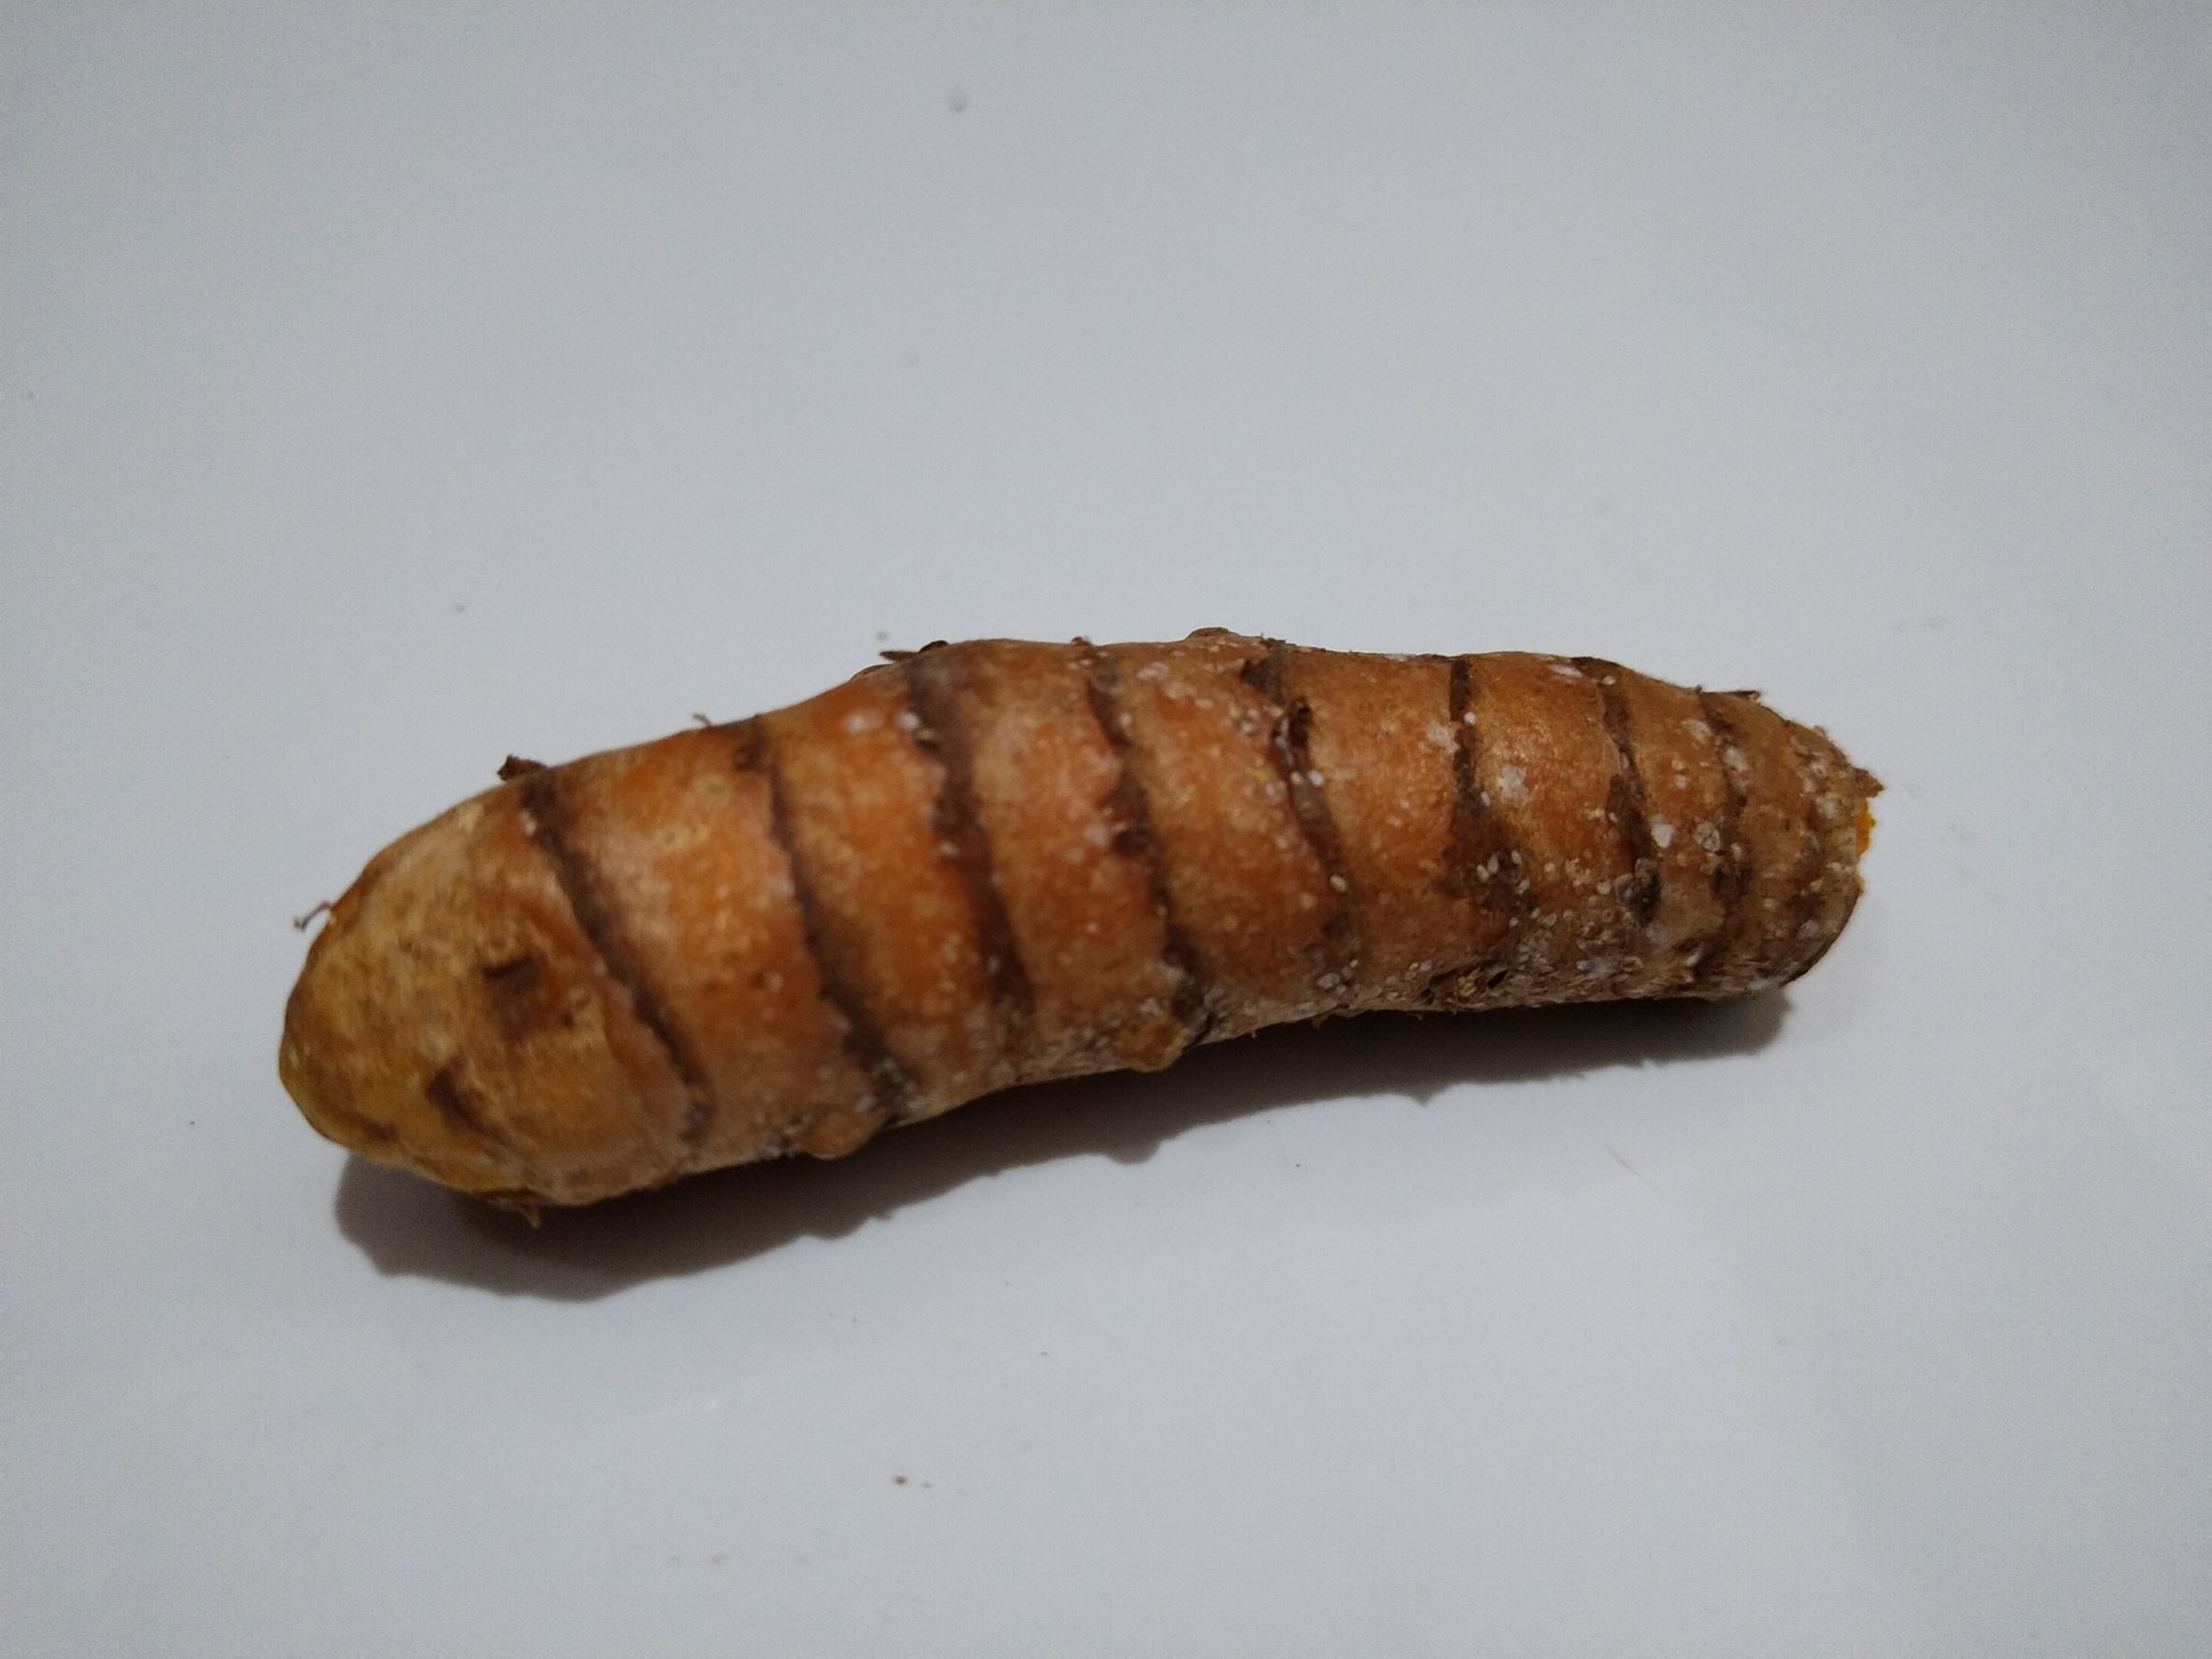Kunyit: (282, 619, 1858, 1225)
